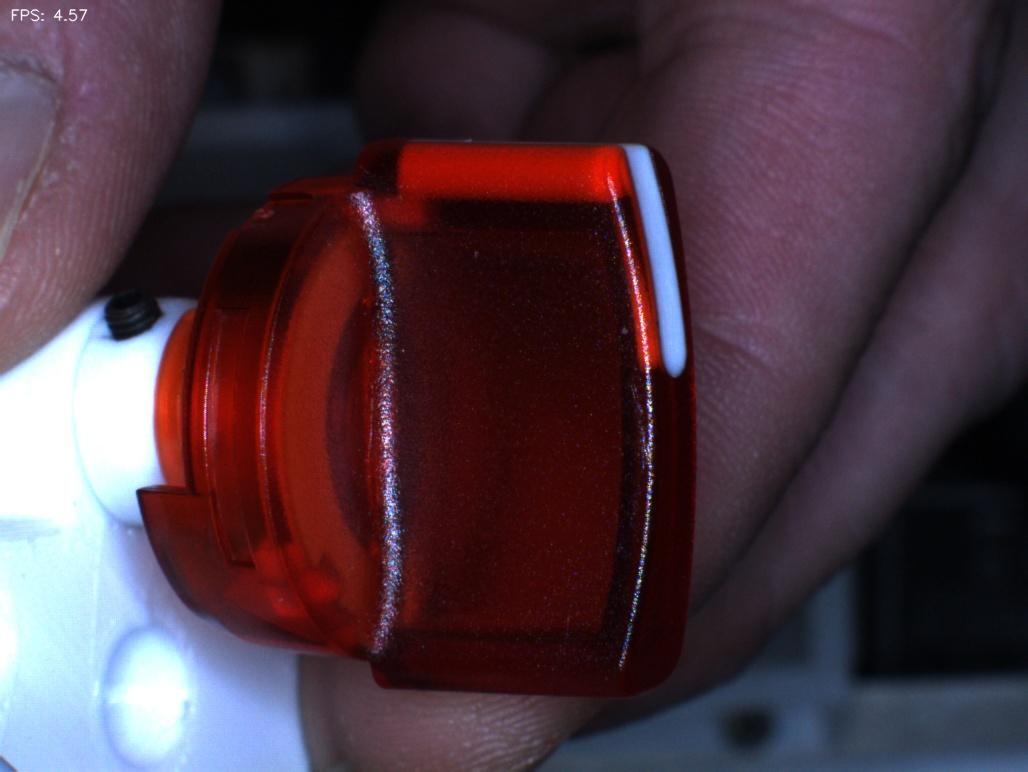Givrage: (592, 364, 668, 482)
